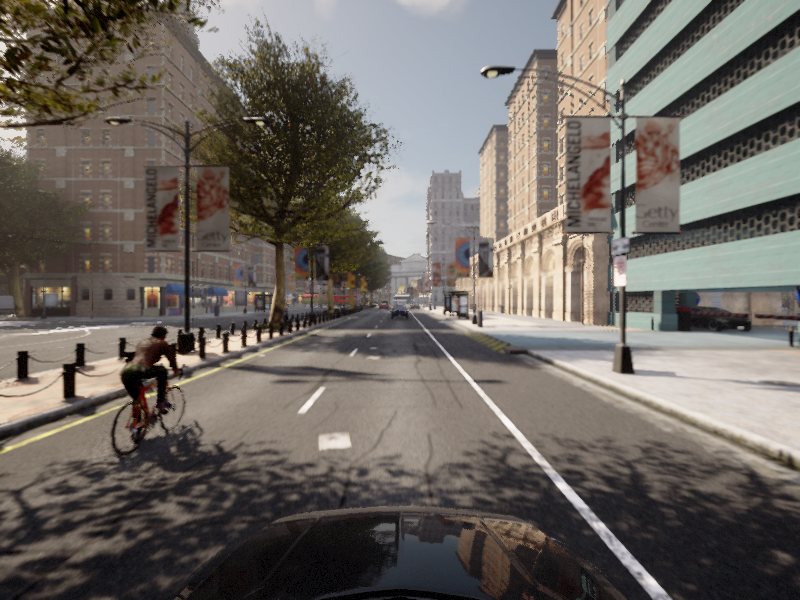vehicle: (87, 323, 202, 465), (278, 303, 291, 320), (391, 305, 408, 318)
